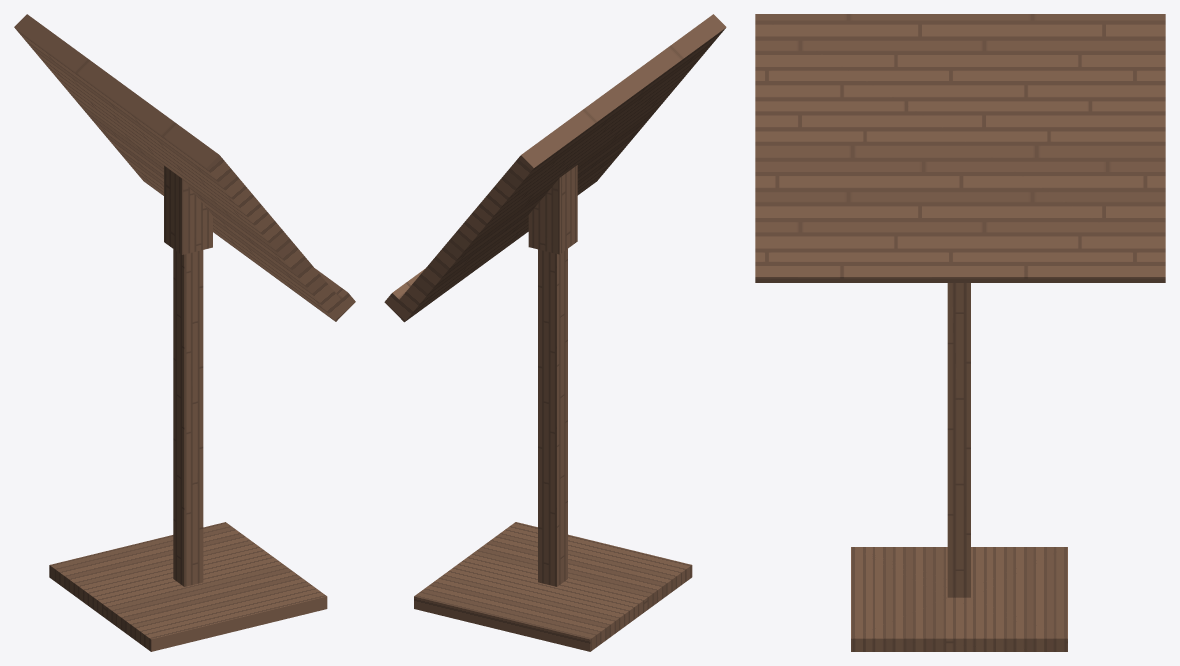
File: guestbook_base.glb
The picture shows the model from 3 angles, left to right: view 1: azimuth 30°, elevation 25°; view 2: azimuth 150°, elevation 25°; view 3: azimuth 270°, elevation 25°; orthographic projection. The views are drawn at different scales.
Visible parts, largest first — view 1: Base; view 2: Base; view 3: Base.
Boxes of the visible parts, bbox=[...] form: Base: bbox=[14, 14, 355, 651]; Base: bbox=[384, 14, 726, 651]; Base: bbox=[755, 14, 1165, 651].
Size of what is drawn, in the model's own units: 0.5658 by 1.61 by 1.07.
1 material, 1 textured.
